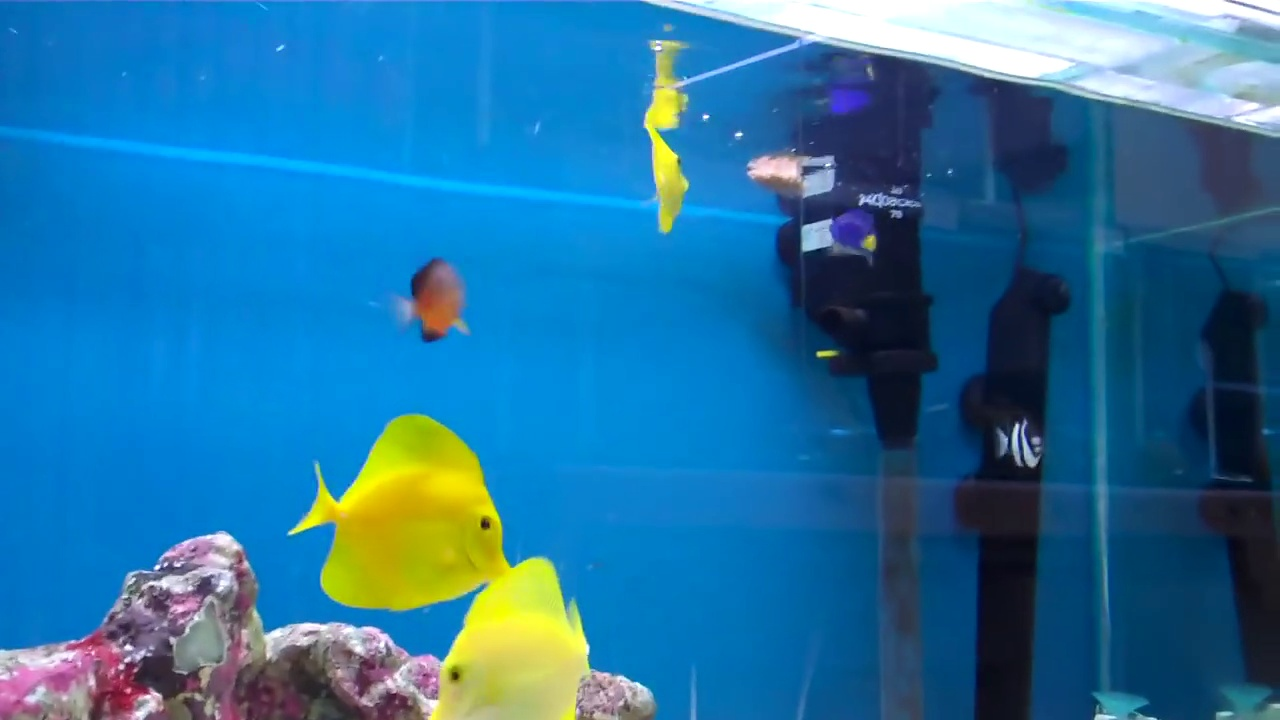saddle butterfly fish: (274, 412, 522, 620), (416, 542, 628, 720), (633, 112, 701, 242)
